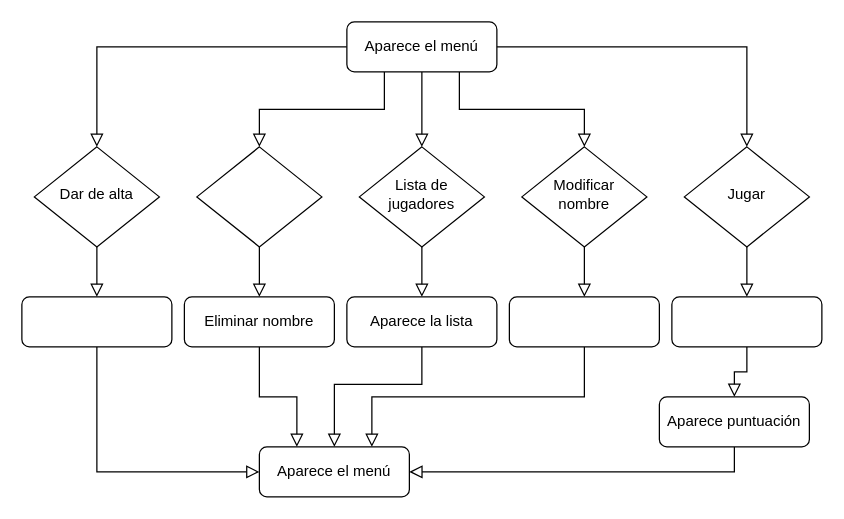
Image size: 844x519. Some labels were removed from this diagram. The shapes that lost their labels are listed below. From the top down, each one's box as (x1, y1, x2, y2) in pixels, then its label:
(196, 146, 322, 247): Dar de baja
(21, 296, 172, 347): Introducir nombre
(508, 296, 659, 347): Se modifica un nombre
(671, 296, 822, 347): Inicia el juego
